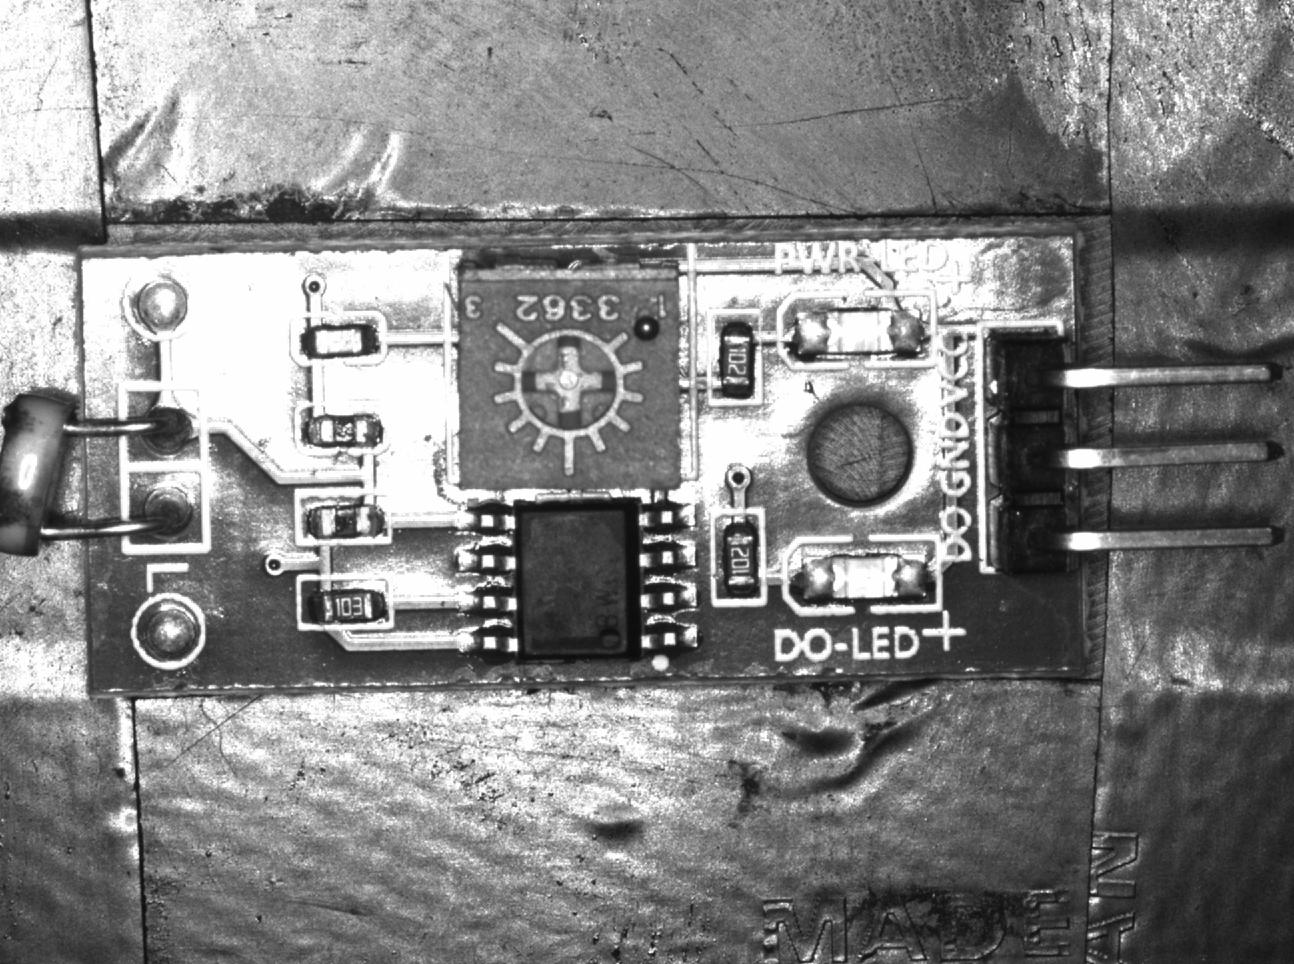miss: (291, 494, 391, 544), (295, 404, 391, 455)
ok: (703, 305, 764, 405), (298, 576, 394, 633), (293, 311, 385, 369), (711, 510, 764, 602)
